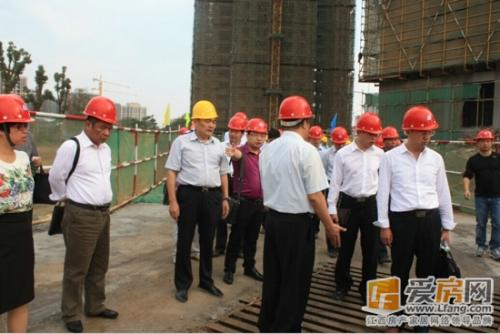boots: (197, 282, 223, 296), (86, 308, 118, 318), (244, 266, 264, 280), (66, 320, 82, 332), (175, 289, 188, 302), (334, 289, 348, 300), (223, 270, 234, 283), (489, 247, 500, 259), (476, 246, 485, 256)
hard-hat: (0, 93, 36, 123), (401, 105, 439, 131), (83, 95, 117, 124), (277, 94, 313, 120), (356, 111, 383, 134), (190, 99, 218, 119), (245, 118, 269, 135), (474, 129, 495, 141)
person: (257, 95, 347, 333), (373, 106, 456, 333), (48, 96, 119, 333), (164, 99, 233, 302), (328, 112, 386, 306), (1, 93, 38, 333), (223, 117, 269, 283), (462, 128, 500, 259)
ppe-suit: (256, 130, 329, 332), (47, 130, 118, 324), (374, 142, 455, 311), (164, 131, 233, 296)
